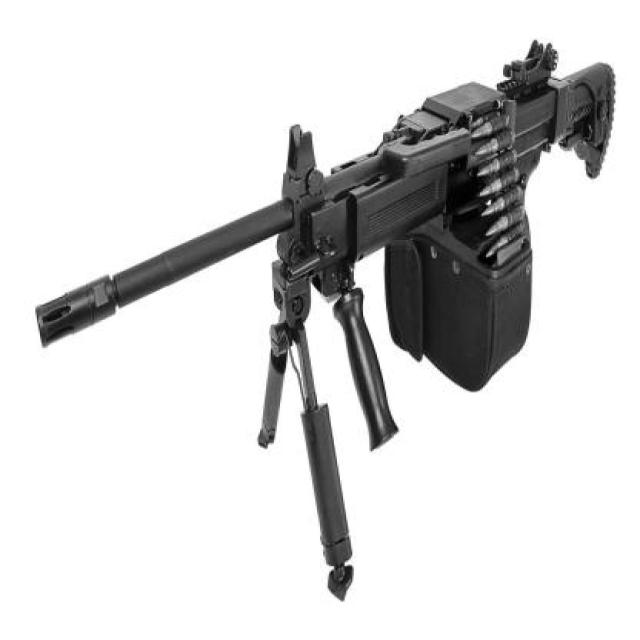weapon: (33, 35, 618, 605)
